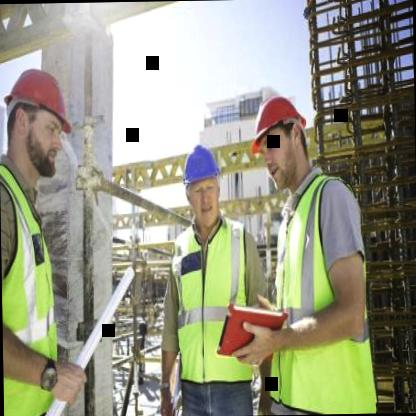helmet: (1, 62, 76, 180), (246, 84, 314, 186), (176, 134, 224, 238)
